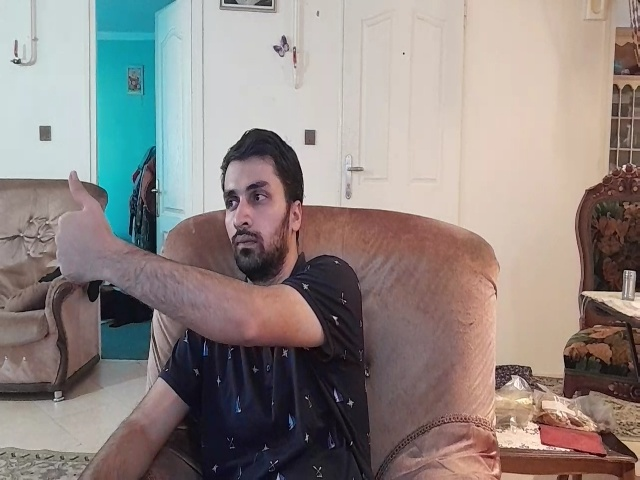ThumbsUp: (55, 171, 118, 284)
